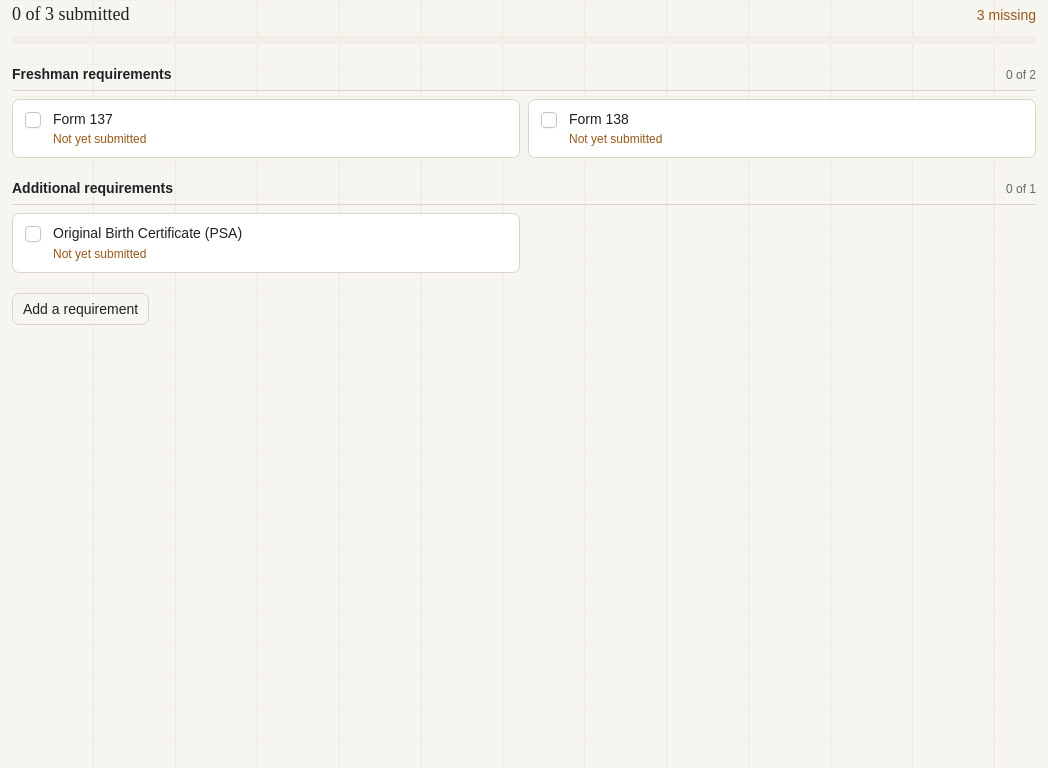
Test case: AdmissionRequirementsChecklist › lets Admission Staff tick a requirement and sends the new state
The image size is (1048, 768).
Click the checkbox named "Form 137" next to "Form 137": point(33, 120) [25,112,41,128]
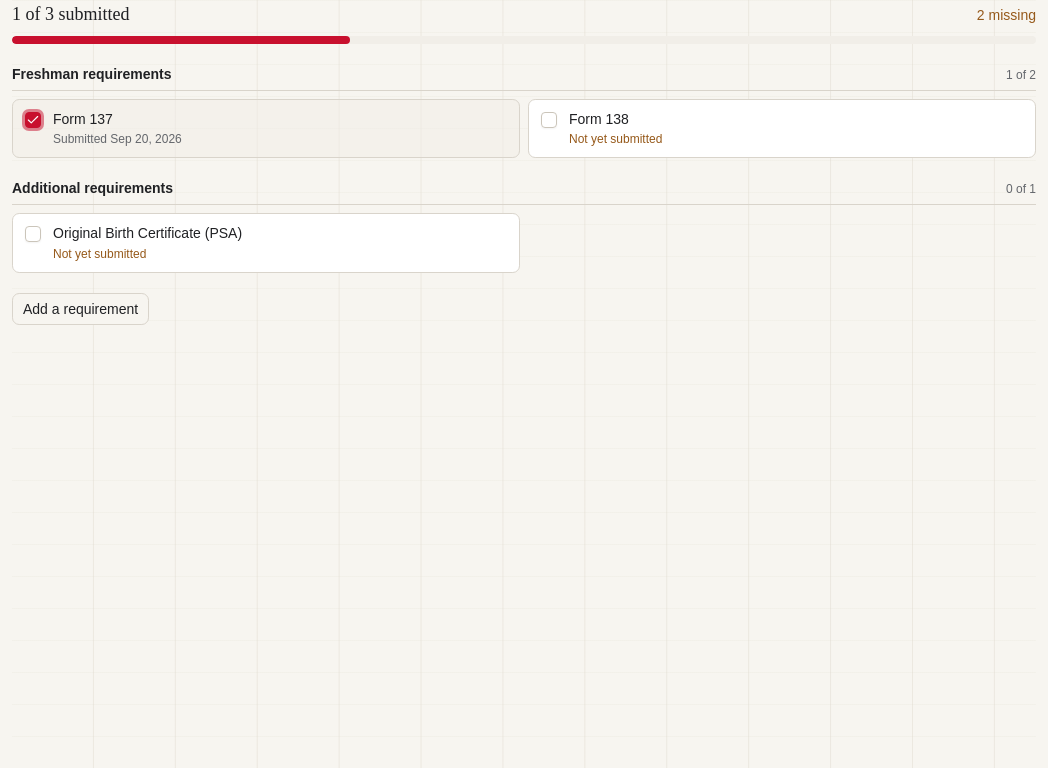
Now the checkbox named "Form 137" next to "Form 137" is checked, box [25,112,41,128]
Now the text "1 of 3 submitted" is shown, box [12,0,130,28]
